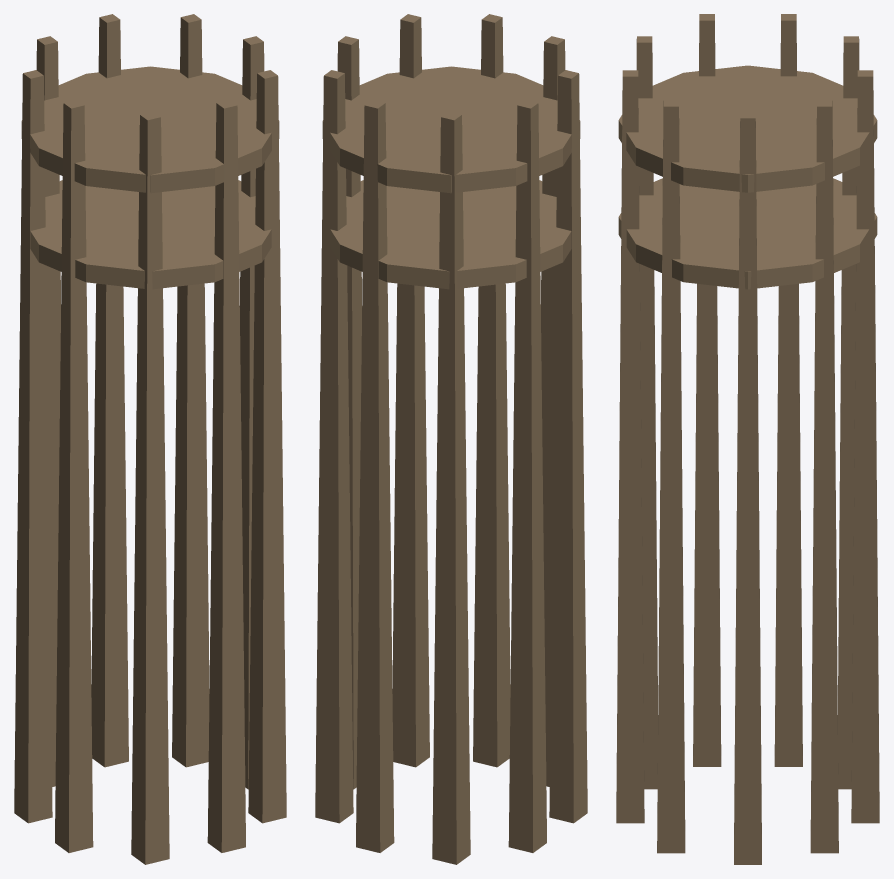
Rendered from bastion_stake.glb.
The picture shows the model from 3 angles, left to right: view 1: azimuth 30°, elevation 25°; view 2: azimuth 150°, elevation 25°; view 3: azimuth 270°, elevation 25°; orthographic projection.
Visible parts, largest first — view 1: bastion_stake; view 2: bastion_stake; view 3: bastion_stake.
Boxes of the visible parts, x1=… form: bastion_stake: x1=14, y1=14, x2=286, y2=864; bastion_stake: x1=315, y1=14, x2=587, y2=864; bastion_stake: x1=616, y1=14, x2=879, y2=864.
Size of the model in its own units: 1.58 by 4.95 by 1.59.
